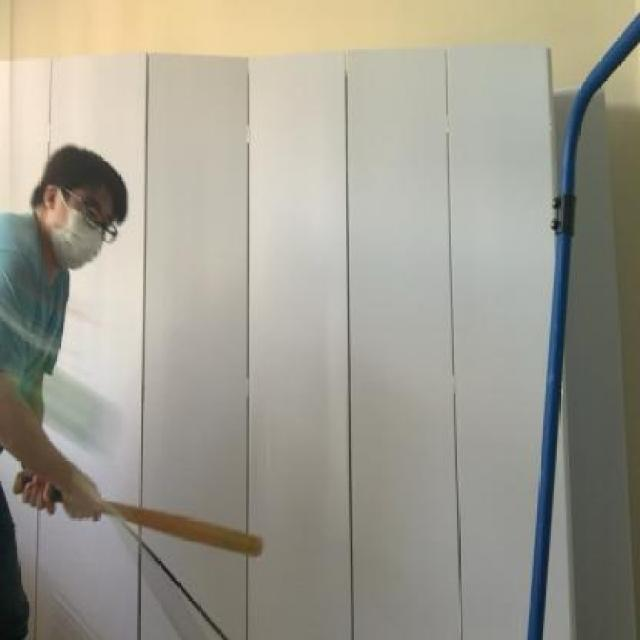baseball: (0, 312, 129, 468)
